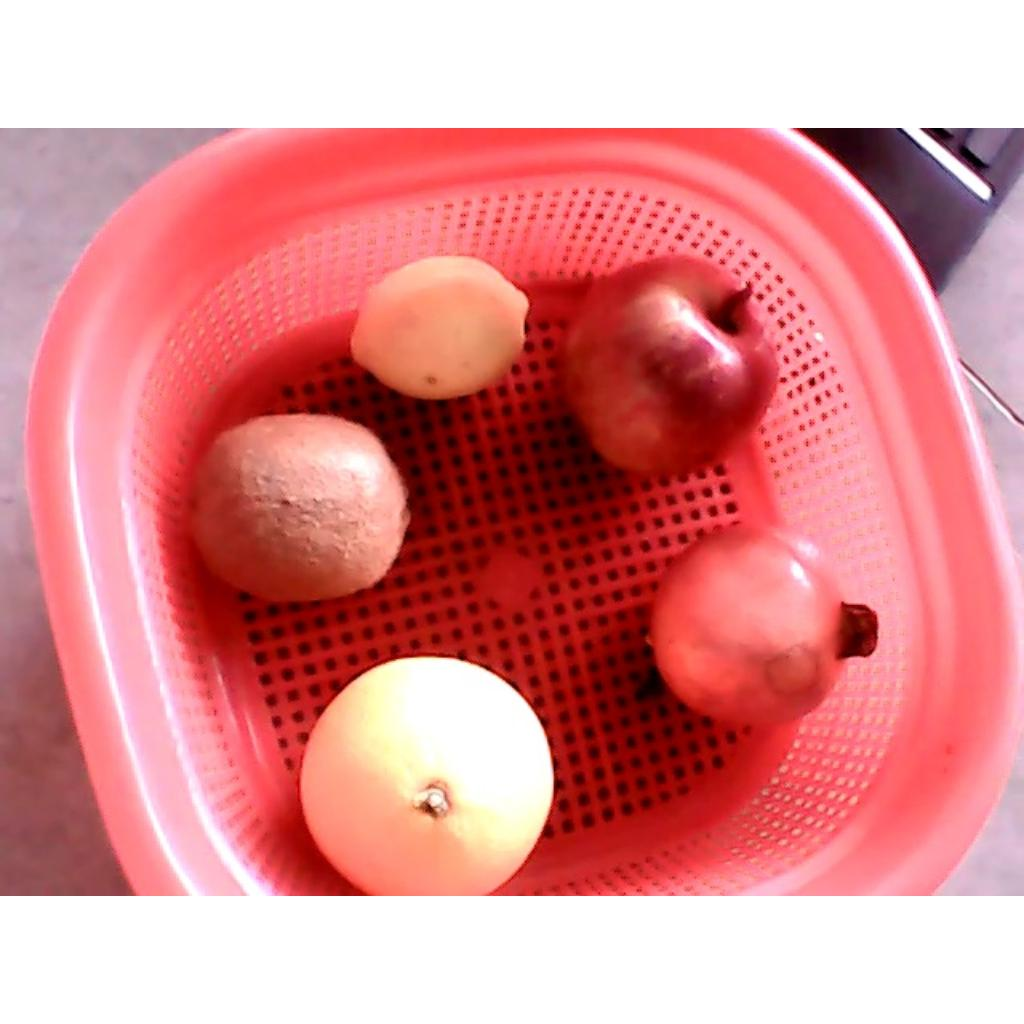apple: (557, 254, 782, 473)
kiwi: (184, 415, 409, 602)
lemon: (350, 254, 530, 401)
orange: (299, 656, 554, 894)
pomegranate: (649, 523, 879, 727)
